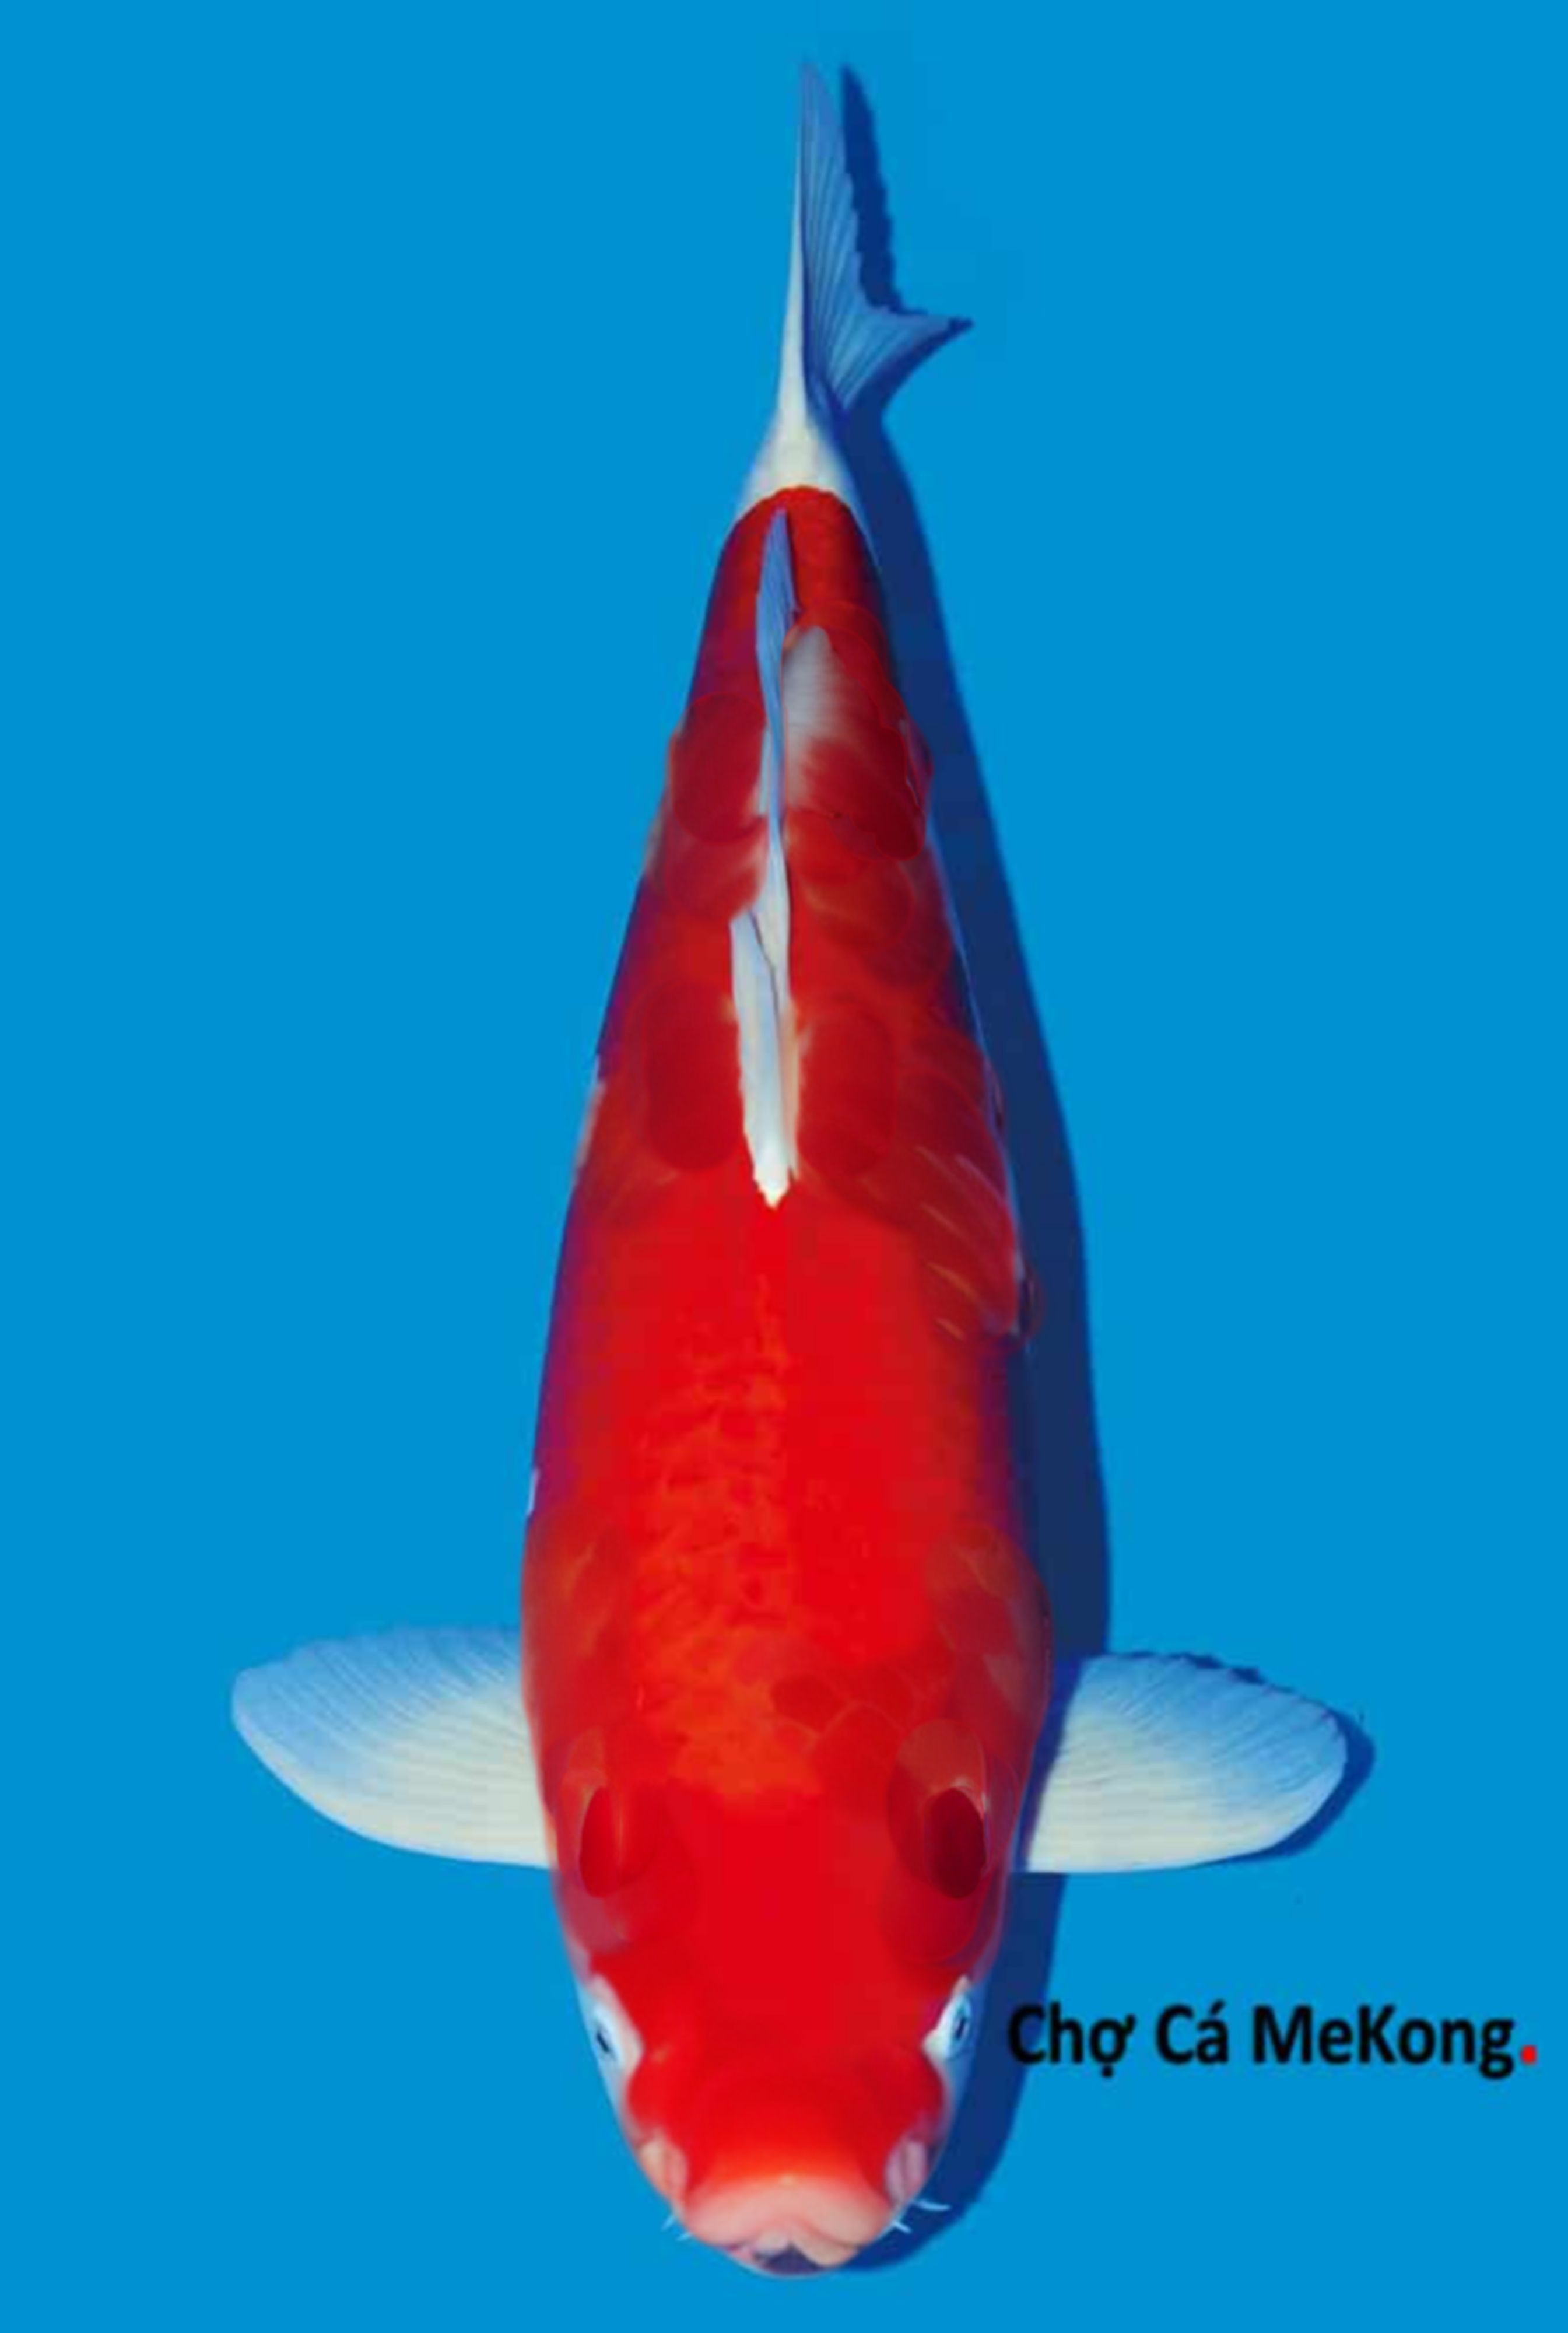red: (228, 53, 1349, 2270)
